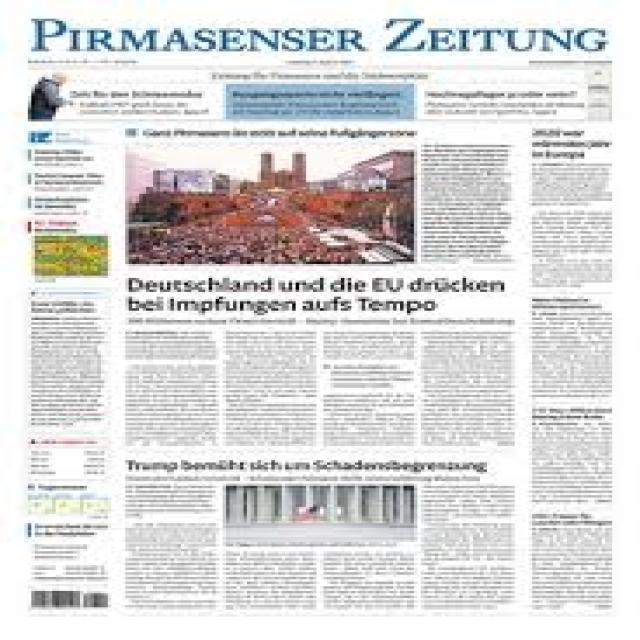paper: (16, 11, 630, 636)
